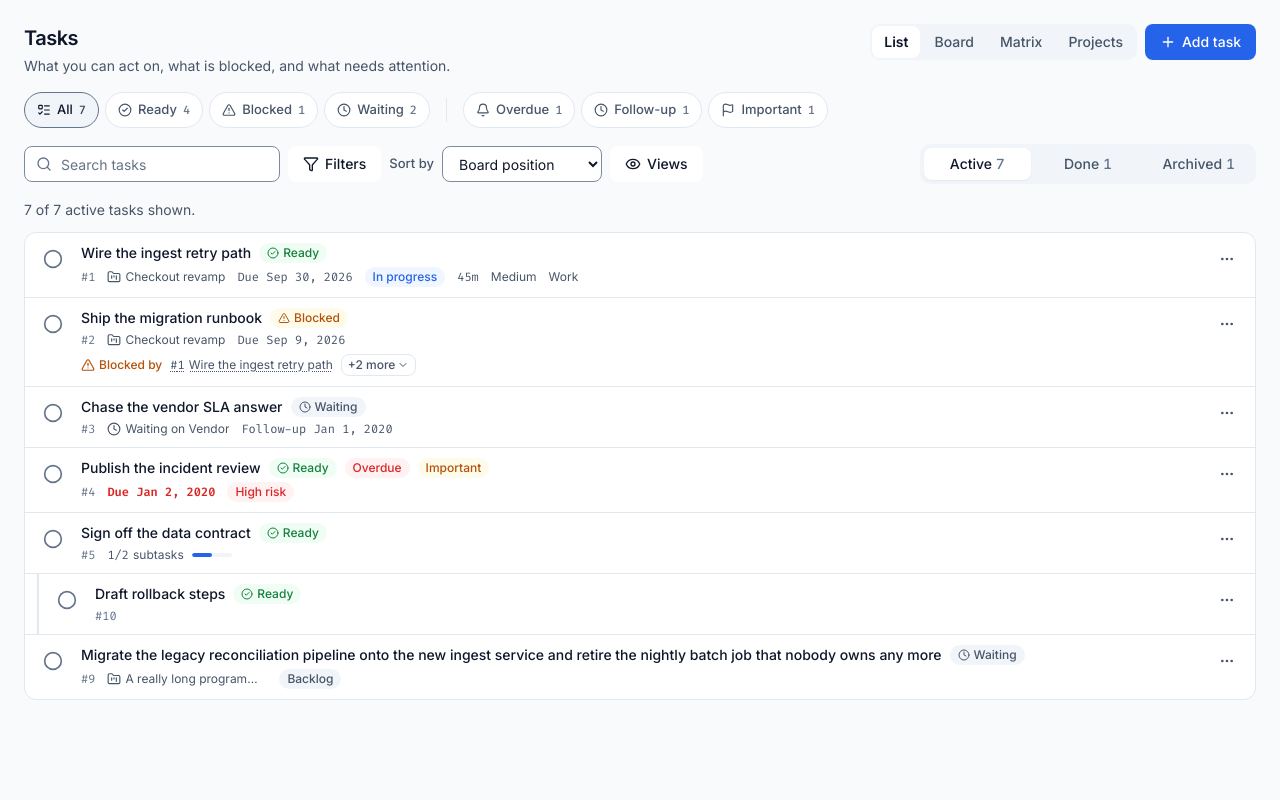
Test: TasksPage - readiness semantics (backend-authoritative) › filters to only backend-ready tasks when the Ready lens is pressed
The width and height of the screenshot is (1280, 800).
Click the button with aria-label "Ready, 4 active tasks" at (154, 110), box [105,92,203,128]
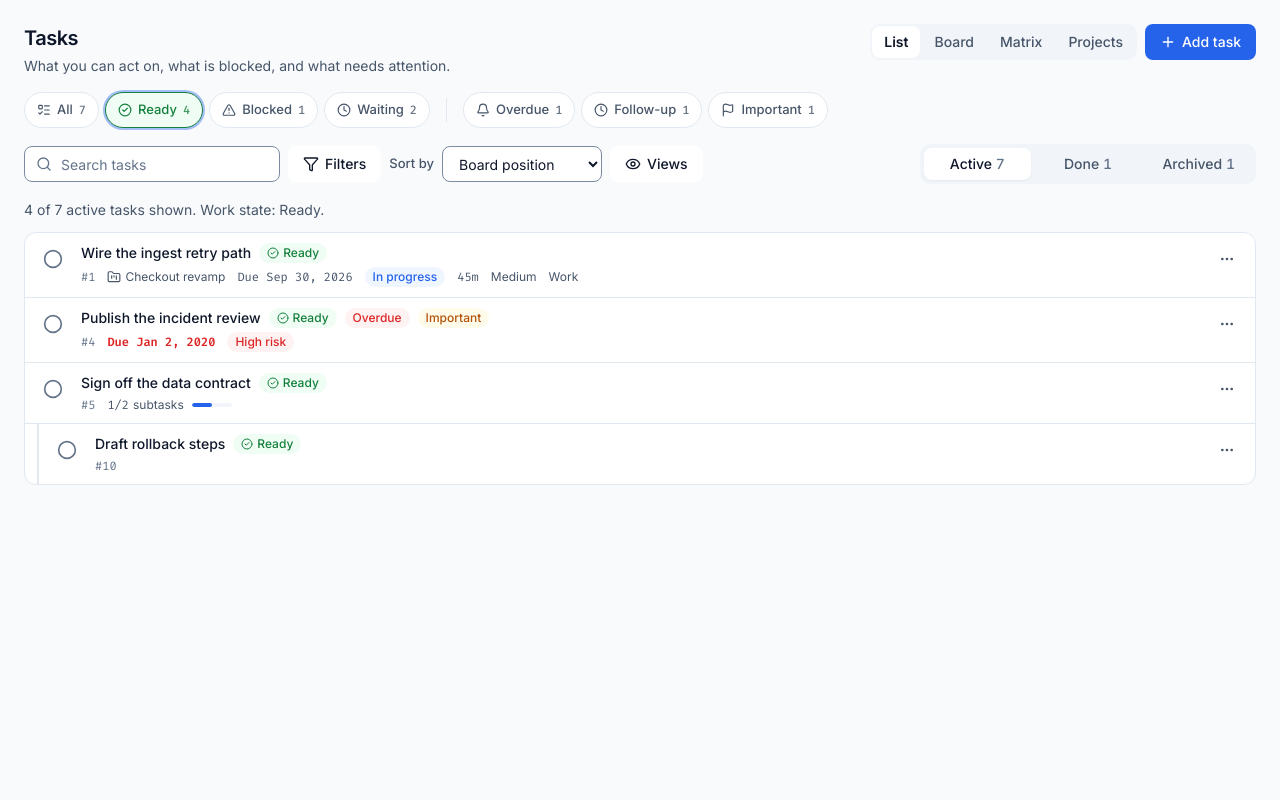
Expected: the link "Wire the ingest retry path" is shown, [81,243,251,263]
Now the link "Chase the vendor SLA answer" is gone
Now the link "Ship the migration runbook" is gone
